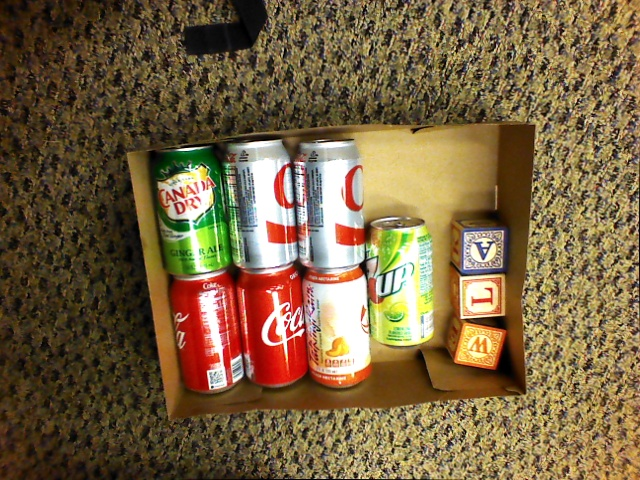can_coke: (171, 273, 243, 393), (239, 266, 306, 390)
can_diet_coke: (224, 138, 298, 269), (296, 137, 366, 270)
can_diet_seven_up: (368, 216, 435, 349)
can_ginger_ale: (149, 145, 227, 275)
can_talking_rain_peach_nectarine: (305, 269, 371, 389)
